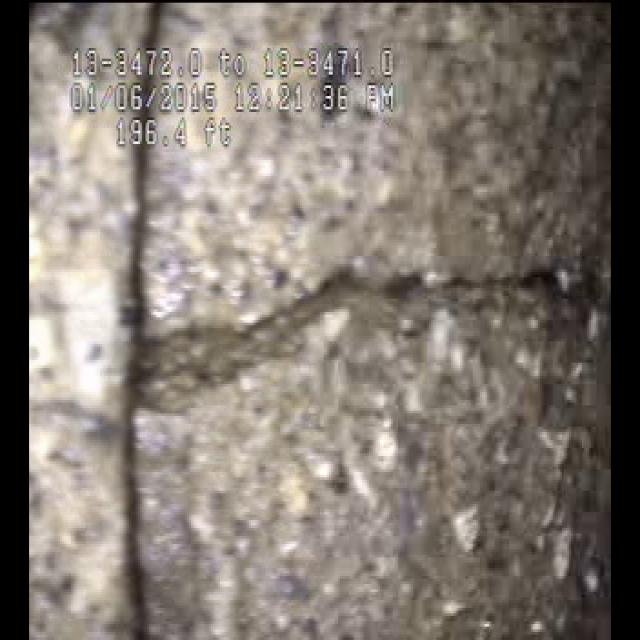Crack: (135, 181, 572, 388)
